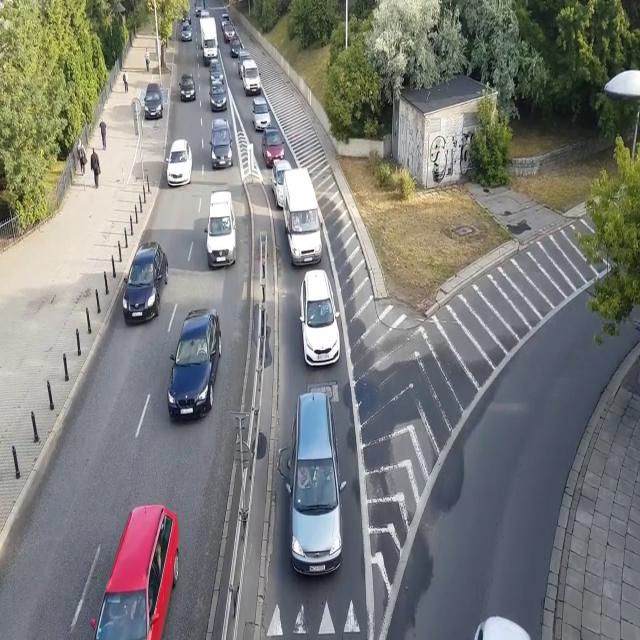car: (89, 503, 180, 640), (168, 308, 222, 421), (299, 269, 341, 367), (122, 242, 169, 325), (165, 140, 192, 187), (270, 160, 294, 209), (210, 118, 233, 168), (262, 126, 284, 167), (251, 97, 271, 132), (144, 84, 163, 120), (209, 80, 227, 112), (179, 73, 196, 102), (208, 58, 224, 86), (229, 37, 242, 59), (222, 24, 235, 44), (181, 22, 192, 42), (220, 14, 231, 31), (182, 12, 191, 24), (200, 10, 211, 18)
truck: (199, 17, 219, 67)
van: (285, 391, 347, 580), (282, 168, 324, 267), (204, 190, 237, 268), (243, 60, 261, 95), (238, 49, 253, 80), (195, 0, 206, 17)
